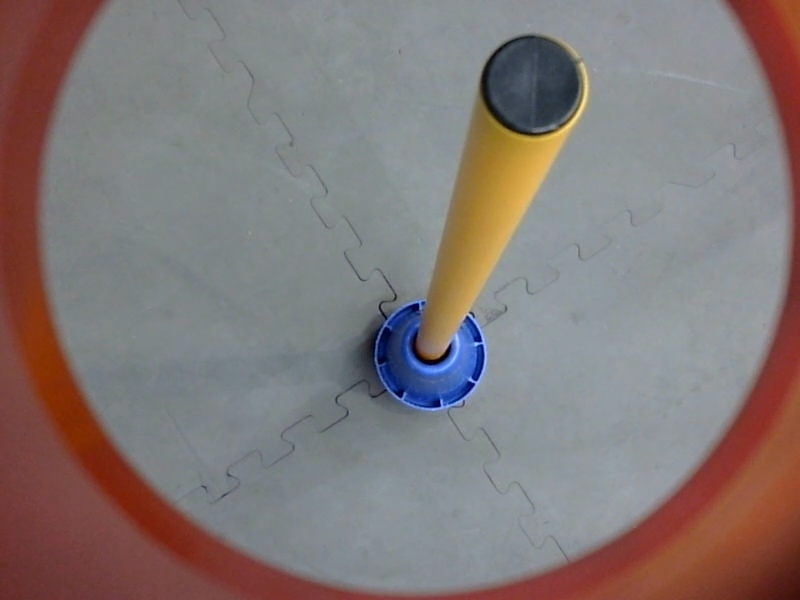tip: (478, 30, 594, 148)
